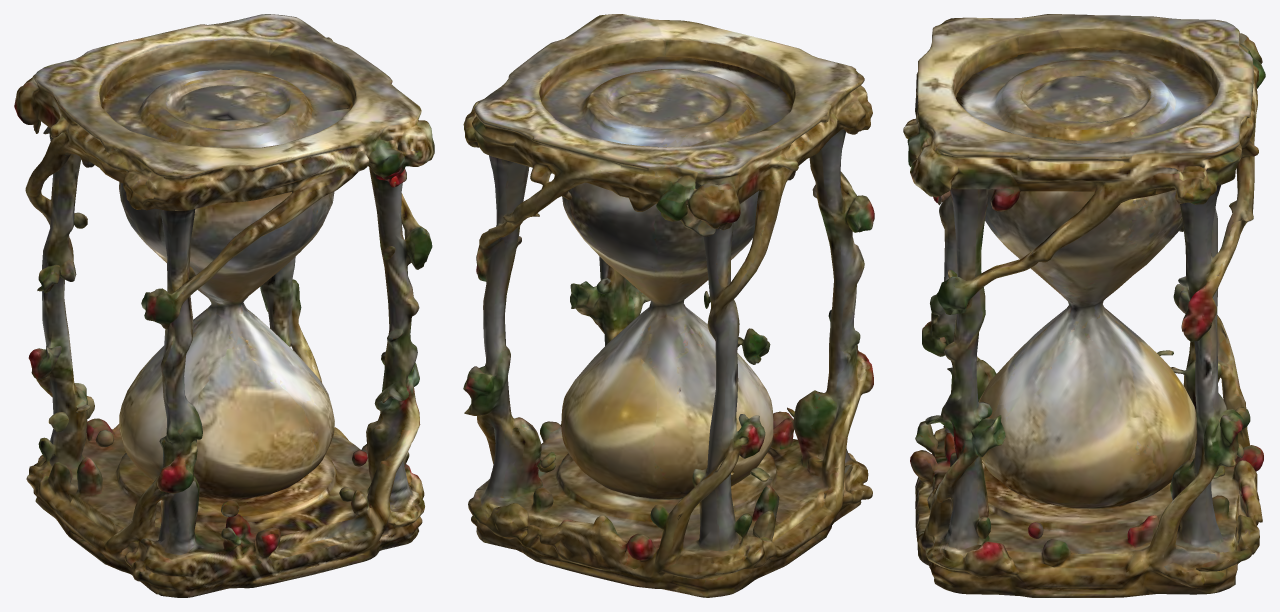
Rendered from sand_clock.glb.
The picture shows the model from 3 angles, left to right: view 1: azimuth 30°, elevation 25°; view 2: azimuth 150°, elevation 25°; view 3: azimuth 270°, elevation 25°; orthographic projection. The views are drawn at different scales.
Size of the model in its own units: 1.52 by 2 by 1.48.
Materials: 1 (1 with a texture image).
